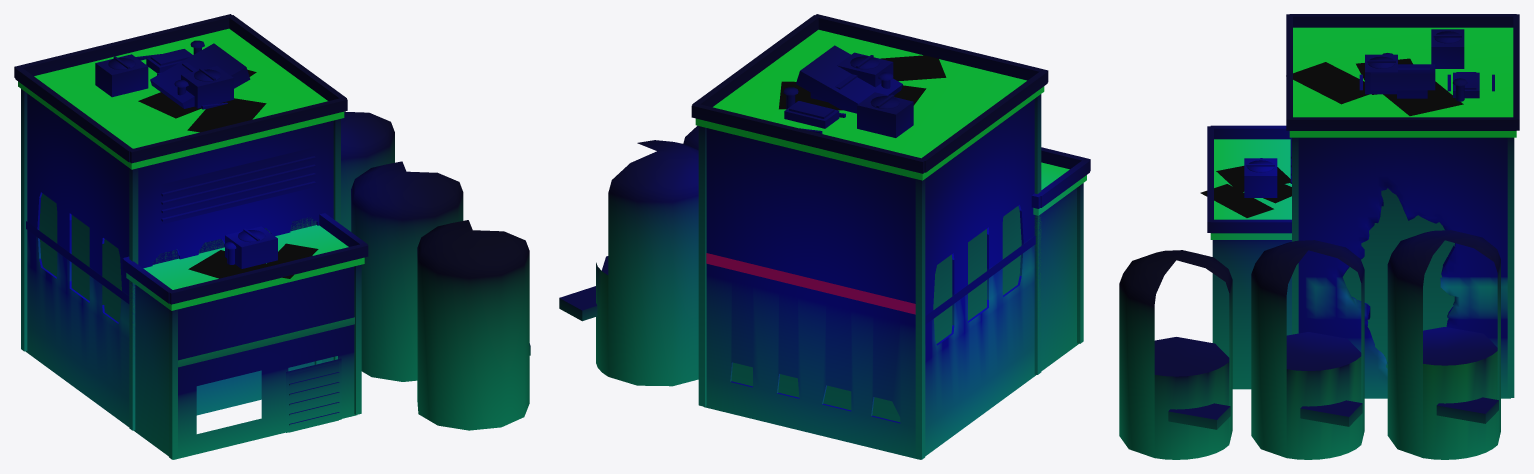
Rendered from chemicalplant_damaged.glb.
3 renders of one model, left to right at view 1: azimuth 30°, elevation 25°; view 2: azimuth 150°, elevation 25°; view 3: azimuth 270°, elevation 25°, orthographic. The views are drawn at different scales.
Parts seen in each view (by area): view 1: lod0; view 2: lod0; view 3: lod0.
Part boxes in pixels (x1,y1,x2,y2): lod0: (14, 14, 530, 459); lod0: (559, 14, 1090, 459); lod0: (1119, 14, 1519, 459).
Size of what is drawn, in the model's own units: 18.72 by 14.95 by 18.2.
